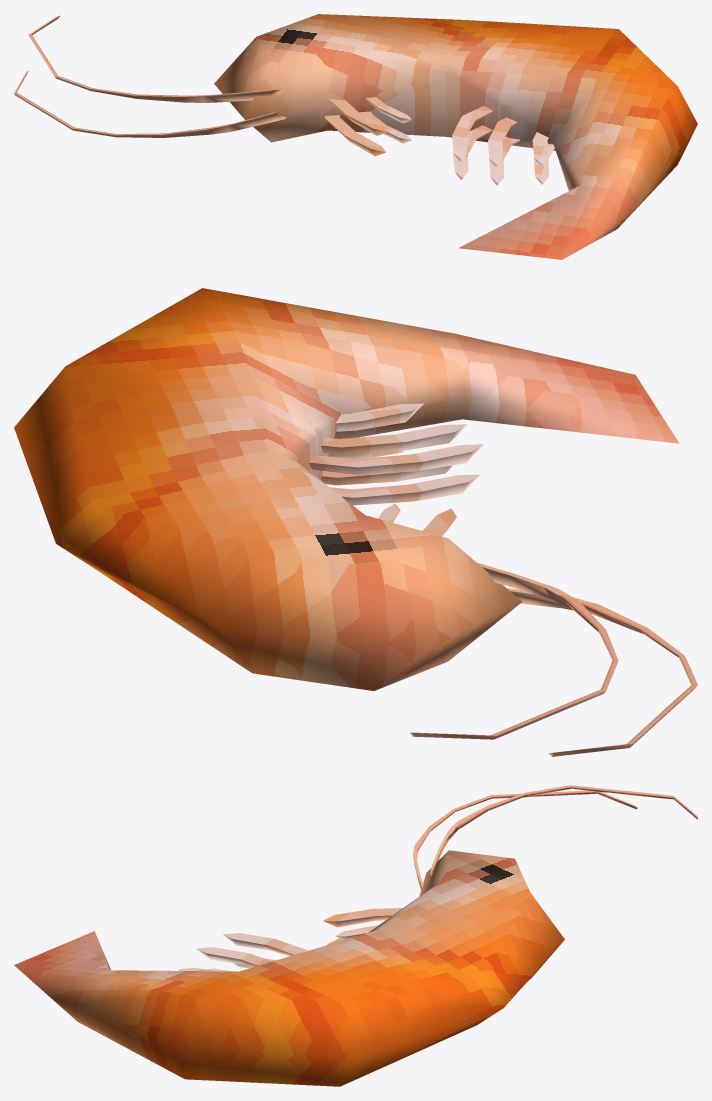
File: Shrimp.fbx
The picture shows the model from 3 angles, top to bottom: view 1: azimuth 30°, elevation 25°; view 2: azimuth 150°, elevation 25°; view 3: azimuth 270°, elevation 25°; orthographic projection. The views are drawn at different scales.
Visible parts, largest first — view 1: Shrimp; view 2: Shrimp; view 3: Shrimp.
Part boxes in pixels (box(x1,y1,x2,y2)): Shrimp: box(14, 14, 697, 259); Shrimp: box(14, 288, 697, 756); Shrimp: box(14, 785, 697, 1086).
Size of the model in its own units: 15.67 by 2.32 by 17.23.
